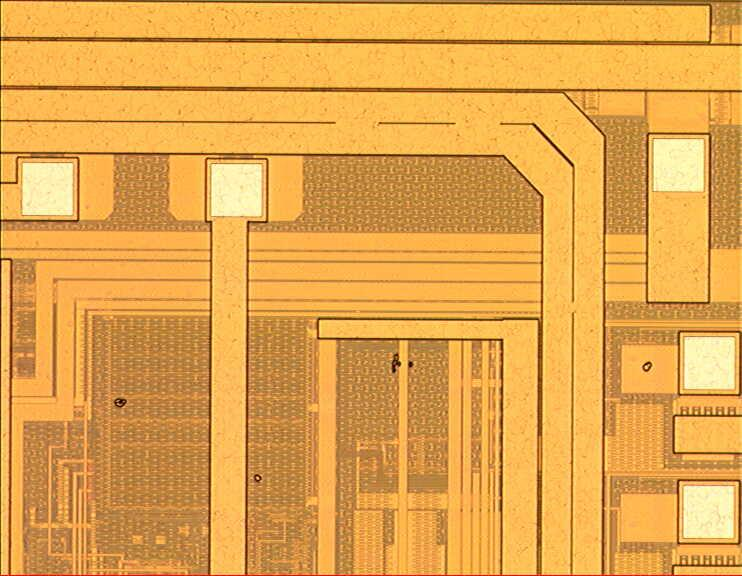BLOCK ETCH: (110, 350, 627, 490)
